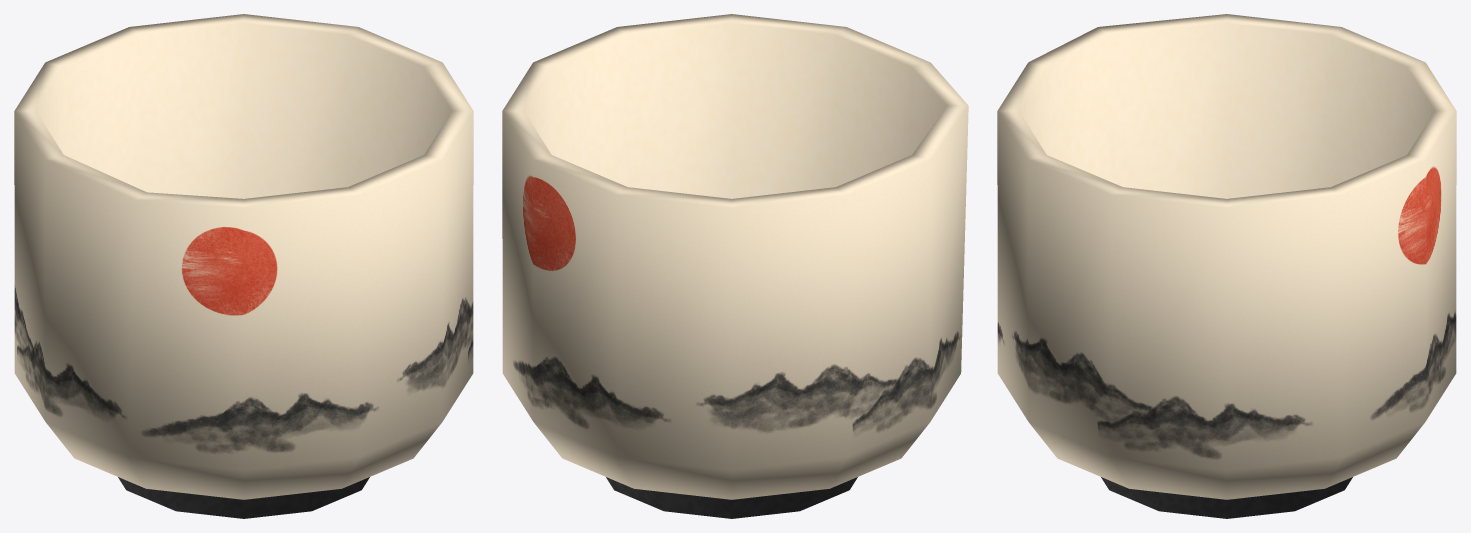
The model's file is tasa.fbx.
The picture shows the model from 3 angles, left to right: view 1: azimuth 30°, elevation 25°; view 2: azimuth 150°, elevation 25°; view 3: azimuth 270°, elevation 25°; orthographic projection.
Parts seen in each view (by area): view 1: Circle.001; view 2: Circle.001; view 3: Circle.001.
Boxes of the visible parts, x1=… form: Circle.001: x1=14, y1=14, x2=473, y2=518; Circle.001: x1=502, y1=14, x2=968, y2=518; Circle.001: x1=997, y1=14, x2=1456, y2=518.
Bounding box in the file's own units: 86.41 × 72.77 × 86.41.
